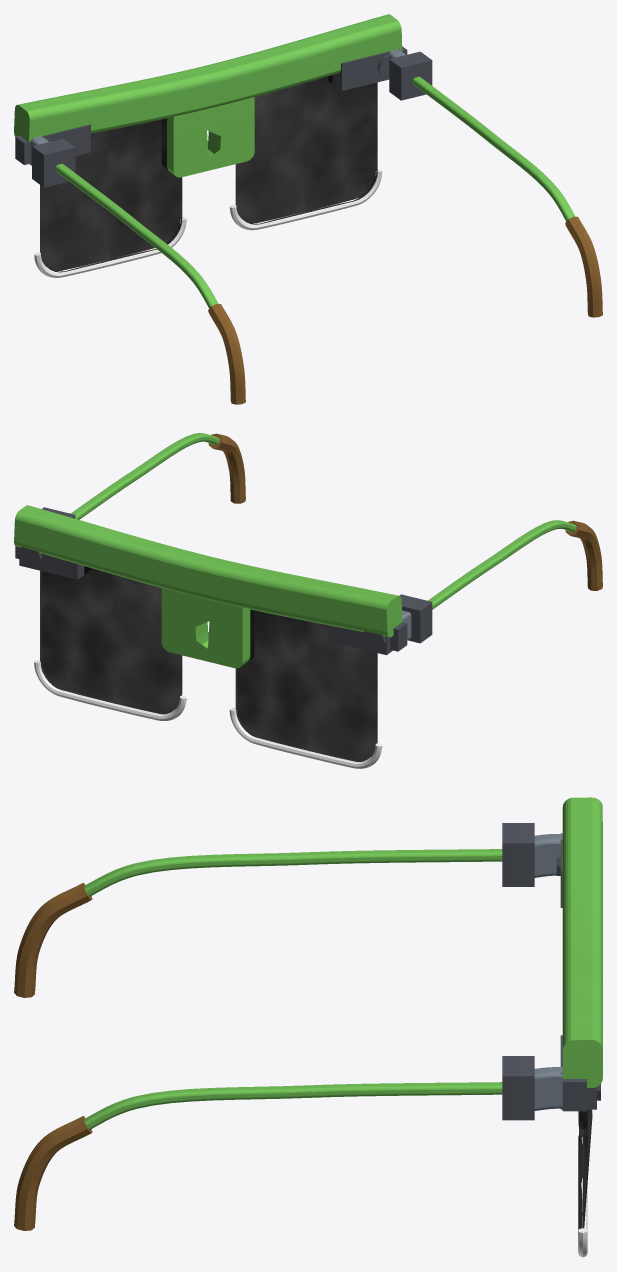
Rendered from Accessories_glasses__0030.glb.
The picture shows the model from 3 angles, top to bottom: view 1: azimuth 30°, elevation 25°; view 2: azimuth 150°, elevation 25°; view 3: azimuth 270°, elevation 25°; orthographic projection. The views are drawn at different scales.
Parts seen in each view (by area): view 1: front_frame::lens_right, front_frame::brow_bar, front_frame::lens_left, front_frame::keyhole_bridge, temple_left::arm_left, temple_right::arm_right, temple_left::knuckle_left, temple_right::knuckle_right, temple_right::ear_tip_right, temple_left::ear_tip_left, front_frame::hinge_block_right, front_frame::lower_rim_right (+2 smaller); view 2: front_frame::brow_bar, front_frame::lens_left, front_frame::lens_right, front_frame::keyhole_bridge, temple_left::arm_left, temple_right::arm_right, front_frame::lower_rim_left, front_frame::lower_rim_right, temple_left::ear_tip_left, temple_right::ear_tip_right, temple_left::knuckle_left, front_frame::hinge_block_right (+1 smaller); view 3: front_frame::brow_bar, temple_left::arm_left, temple_right::arm_right, temple_left::ear_tip_left, temple_right::ear_tip_right, temple_right::knuckle_right, temple_left::knuckle_left, flex_link_right::flex_link_right, front_frame::lens_right, flex_link_left::flex_link_left, front_frame::lower_rim_right, flex_link_right::flex_boss_right.
Boxes of the visible parts, <box> form: front_frame::lens_right: <box>235,75,377,224</box>; front_frame::brow_bar: <box>14,14,402,141</box>; front_frame::lens_left: <box>40,118,182,272</box>; front_frame::keyhole_bridge: <box>162,97,254,177</box>; temple_left::arm_left: <box>55,163,218,308</box>; temple_right::arm_right: <box>412,76,575,221</box>; temple_left::knuckle_left: <box>32,138,75,187</box>; temple_right::knuckle_right: <box>389,51,432,100</box>; temple_right::ear_tip_right: <box>565,216,602,317</box>; temple_left::ear_tip_left: <box>208,303,245,404</box>; front_frame::hinge_block_right: <box>332,49,399,90</box>; front_frame::lower_rim_right: <box>229,169,382,230</box>; front_frame::brow_bar: <box>14,505,402,637</box>; front_frame::lens_left: <box>235,609,377,761</box>; front_frame::lens_right: <box>40,566,182,714</box>; front_frame::keyhole_bridge: <box>161,588,253,668</box>; temple_left::arm_left: <box>428,520,576,609</box>; temple_right::arm_right: <box>71,433,219,519</box>; front_frame::lower_rim_left: <box>229,708,382,768</box>; front_frame::lower_rim_right: <box>34,660,186,720</box>; temple_left::ear_tip_left: <box>565,520,602,590</box>; temple_right::ear_tip_right: <box>208,433,245,503</box>; temple_left::knuckle_left: <box>399,594,432,643</box>; front_frame::hinge_block_right: <box>19,547,84,579</box>; front_frame::brow_bar: <box>562,797,602,1087</box>; temple_left::arm_left: <box>84,849,502,896</box>; temple_right::arm_right: <box>84,1082,502,1129</box>; temple_left::ear_tip_left: <box>14,882,92,997</box>; temple_right::ear_tip_right: <box>14,1116,92,1230</box>; temple_right::knuckle_right: <box>502,1056,534,1120</box>; temple_left::knuckle_left: <box>502,823,534,886</box>; flex_link_right::flex_link_right: <box>534,1067,562,1110</box>; front_frame::lens_right: <box>579,1109,592,1228</box>; flex_link_left::flex_link_left: <box>534,834,562,877</box>; front_frame::lower_rim_right: <box>578,1134,587,1257</box>; flex_link_right::flex_boss_right: <box>562,1078,586,1111</box>.
Bounding box in the file's own units: 0.1491 × 0.0659 × 0.1464.
6 materials, 6 textured.
